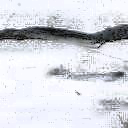crackTip: (1, 24, 128, 46)
